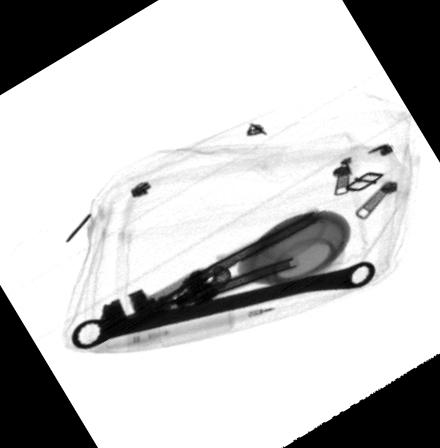Pliers: (96, 211, 320, 340)
Wrench: (70, 258, 377, 349)
